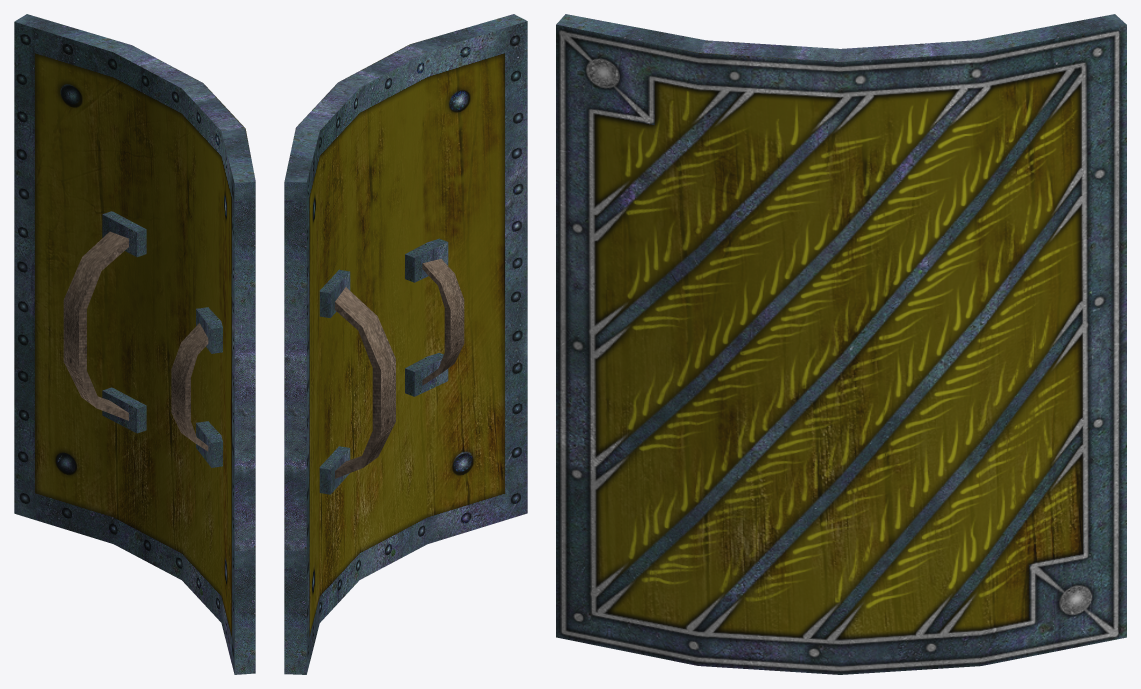
File: shield_03.FBX
The picture shows the model from 3 angles, left to right: view 1: azimuth 30°, elevation 25°; view 2: azimuth 150°, elevation 25°; view 3: azimuth 270°, elevation 25°; orthographic projection. The views are drawn at different scales.
Parts seen in each view (by area): view 1: square_shield_03; view 2: square_shield_03; view 3: square_shield_03.
Part boxes in pixels (x1,y1,x2,y2): square_shield_03: [14, 14, 255, 674]; square_shield_03: [284, 14, 527, 674]; square_shield_03: [556, 14, 1126, 674].
Size of the model in its own units: 14.1 by 72.51 by 61.2.
